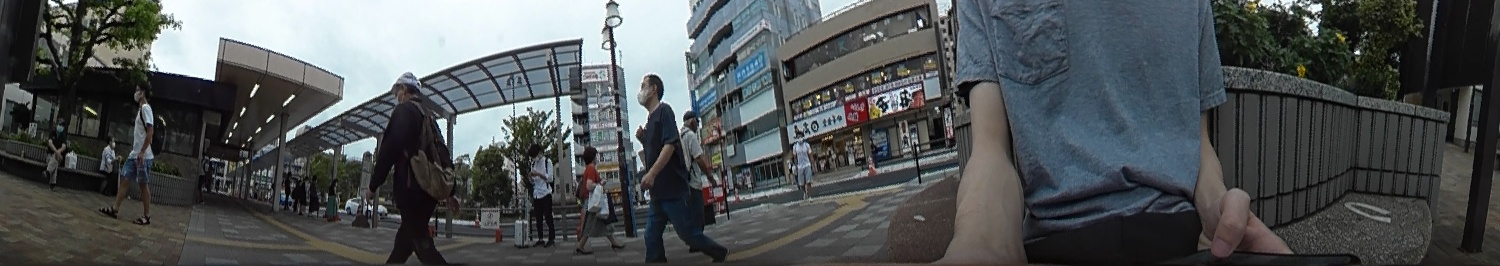difficult_person: (324, 177, 341, 220), (309, 173, 323, 211), (298, 173, 309, 214), (869, 136, 880, 170)
person: (631, 71, 723, 266), (383, 69, 448, 266), (109, 81, 159, 222), (676, 112, 714, 247), (581, 147, 622, 247), (525, 141, 556, 245), (789, 130, 814, 201), (46, 118, 67, 182), (99, 135, 119, 185)
